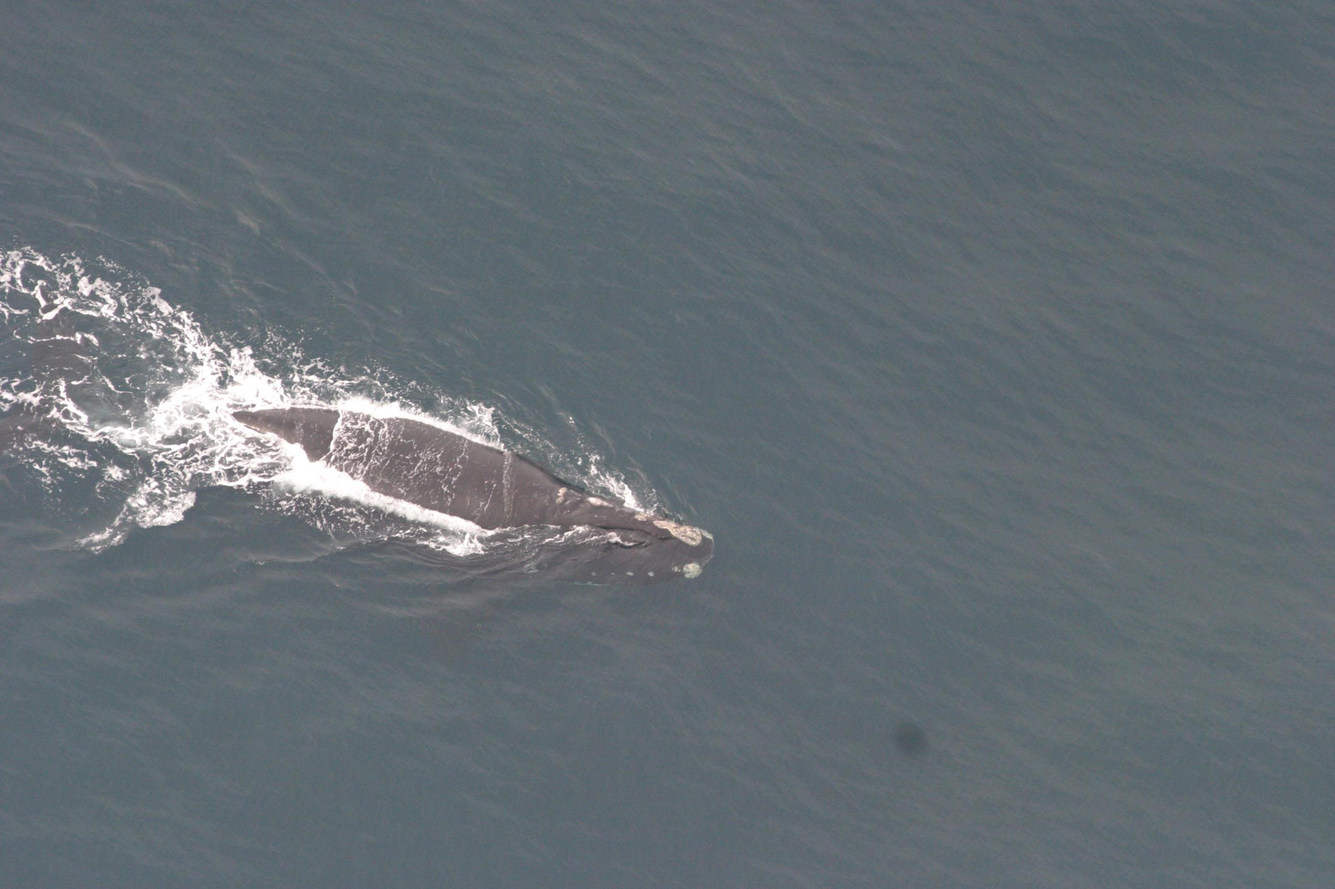whale: (0, 389, 724, 596)
